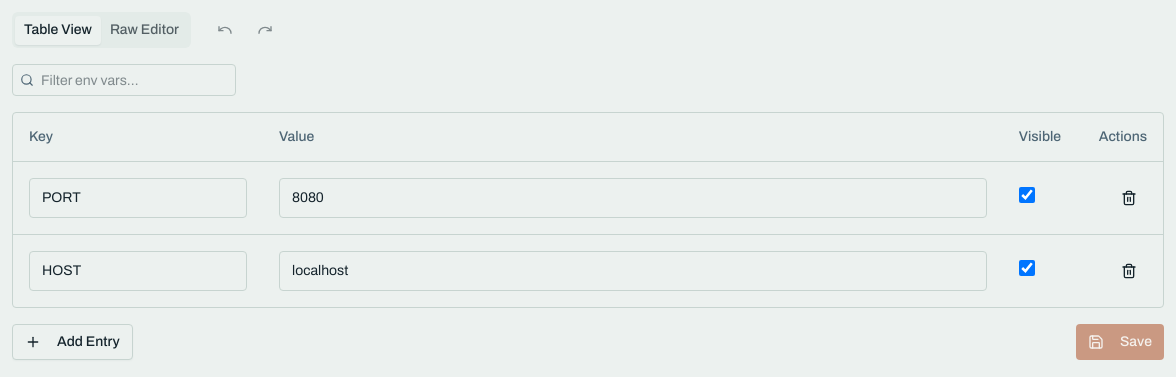
EnvEditor entry editing › Delete removes the targeted row from both desktop and mobile renderings
Click the button named "Delete entry 1". click: (1129, 198)
box: [1111,180,1147,216]
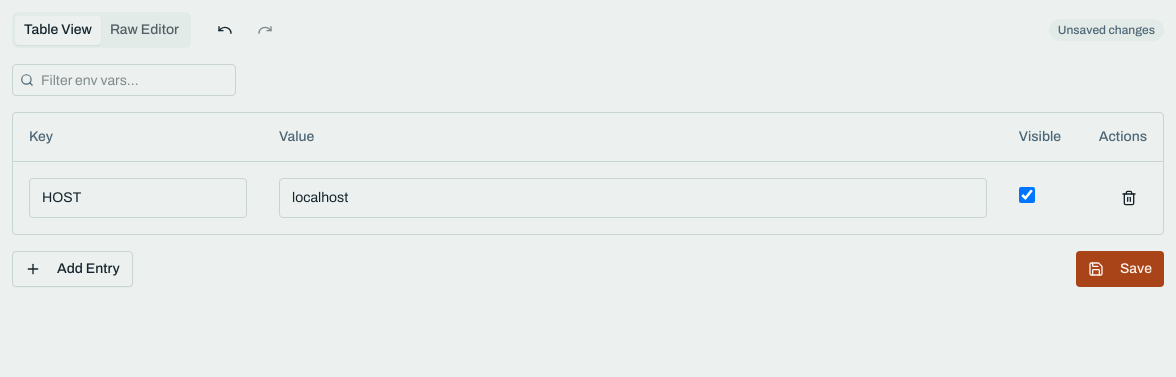
Now the number of fields showing "localhost" is 2
